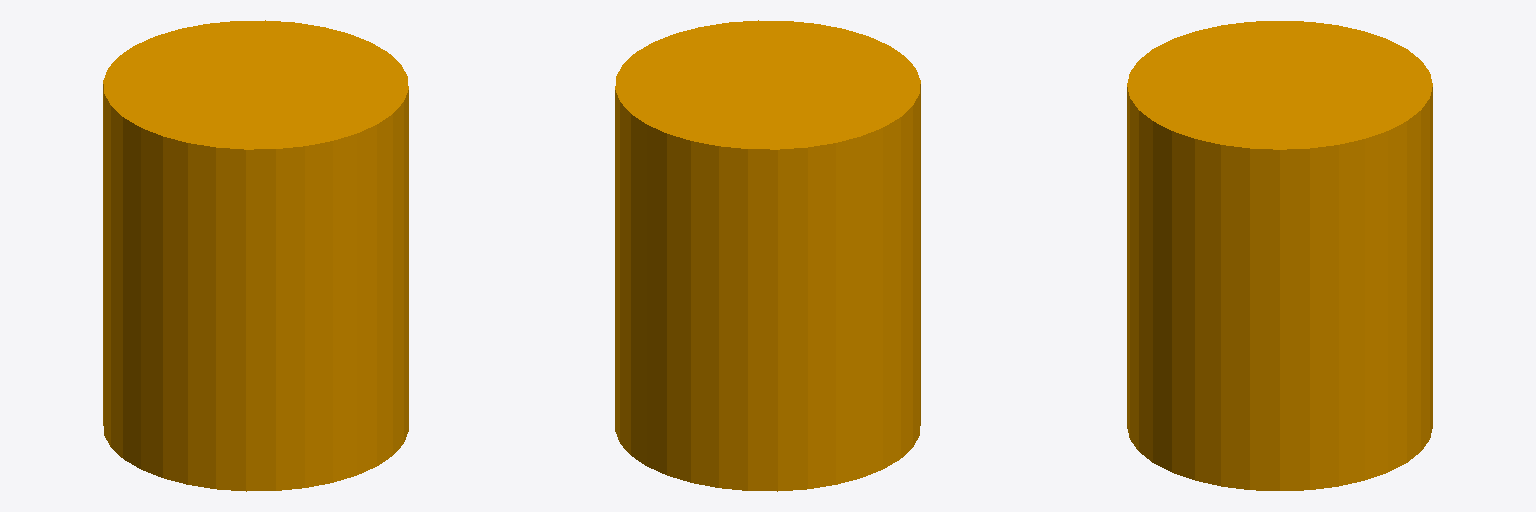
robot.urdf — 2v2_mod_cylinder_small:
<?xml version="1.0" ?>
<robot name="2v2_mod_cylinder_small">

    <link name="2v2_mod_cylinder_small">
        <visual>
            <origin rpy="1.5707963267948966 0 0" xyz="0 0 0"/>
            <geometry>
                <mesh filename="obj_files/2v2_mod_cylinder_small.obj" scale="1 1 1"/>
            </geometry>
        </visual>
        <collision>
            <geometry>
                <mesh filename="obj_files/2v2_mod_cylinder_small_collision.obj" scale="1 1 1"/>
            </geometry>
        </collision>
    </link>

</robot>

--- Facts derived from the render (not from the file) ---
The picture shows the robot from 3 angles, left to right: view 1: azimuth 30°, elevation 25°; view 2: azimuth 150°, elevation 25°; view 3: azimuth 270°, elevation 25°; orthographic projection.
Robot: 2v2_mod_cylinder_small — 1 links, 0 joints (none); root link 2v2_mod_cylinder_small; default pose: every joint at zero.
Links seen in each view (by area): view 1: 2v2_mod_cylinder_small; view 2: 2v2_mod_cylinder_small; view 3: 2v2_mod_cylinder_small.
Boxes of the visible links, x1,y1,x2,y2 form: 2v2_mod_cylinder_small: (103, 20, 408, 491); 2v2_mod_cylinder_small: (615, 20, 920, 491); 2v2_mod_cylinder_small: (1127, 21, 1432, 490).
Bounding box of the posed robot: 0.0779 × 0.0779 × 0.096 m (x, y, z).
Meshes: 1 distinct files referenced, 1 mesh visuals loaded (1 OBJ).